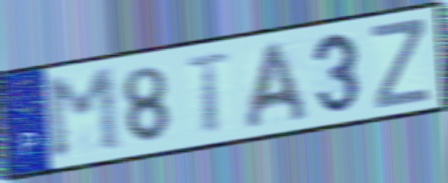3: (307, 29, 366, 116)
8: (118, 64, 175, 144)
A: (242, 39, 312, 133)
M: (40, 64, 126, 164)
T: (183, 50, 235, 136)
Z: (368, 17, 433, 113)
